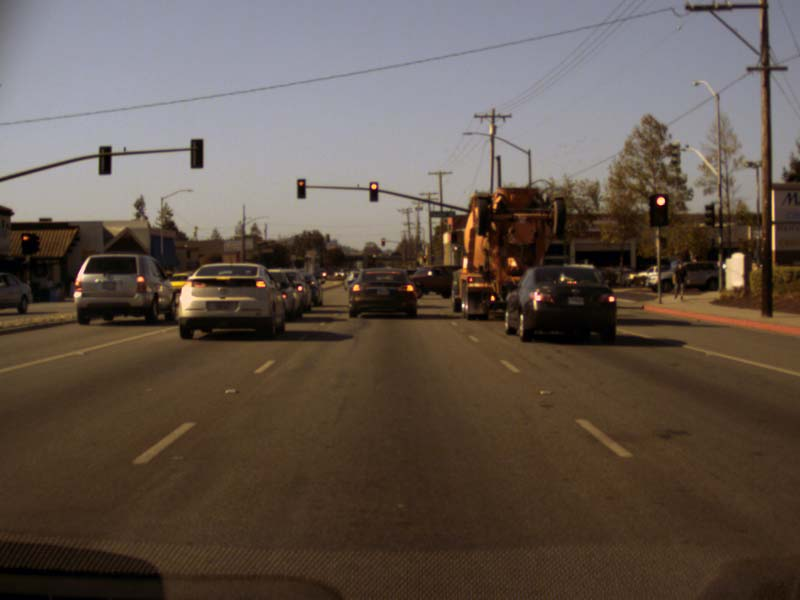Red: (655, 196, 668, 224), (21, 233, 33, 252), (296, 179, 307, 198), (369, 181, 378, 201), (380, 237, 384, 245)
